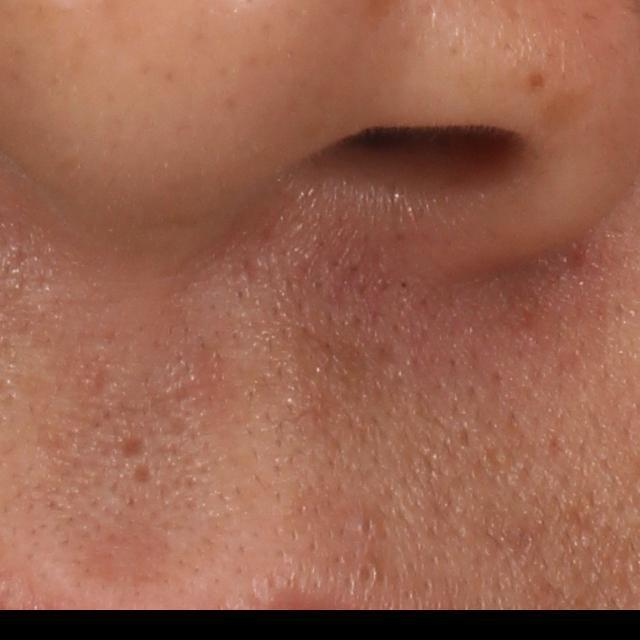atrophic_scar: (126, 461, 158, 493), (120, 436, 153, 465)
comedo: (350, 557, 380, 587)
